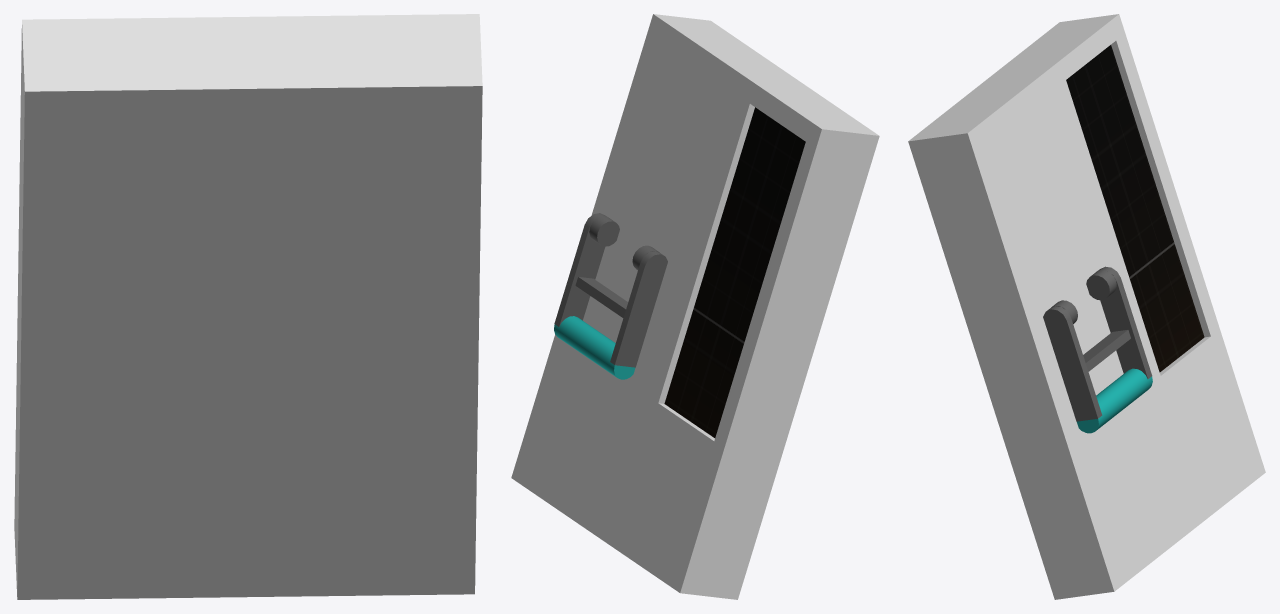
The model's file is SM_Heal.fbx.
3 renders of one model, left to right at view 1: azimuth 30°, elevation 25°; view 2: azimuth 150°, elevation 25°; view 3: azimuth 270°, elevation 25°, orthographic. The views are drawn at different scales.
Visible parts, largest first — view 1: Heal; view 2: Heal, HealLever, HealHandle1, HealPivot, HealLever2; view 3: Heal, HealLever, HealHandle1, HealPivot, HealLever2.
Boxes of the visible parts, bbox=[...] form: Heal: bbox=[14, 14, 482, 599]; Heal: bbox=[511, 14, 879, 599]; HealLever: bbox=[554, 213, 667, 367]; HealHandle1: bbox=[554, 316, 635, 379]; HealPivot: bbox=[589, 216, 659, 270]; HealLever2: bbox=[575, 277, 627, 317]; Heal: bbox=[908, 14, 1265, 599]; HealLever: bbox=[1043, 266, 1152, 421]; HealHandle1: bbox=[1077, 368, 1152, 433]; HealPivot: bbox=[1051, 270, 1116, 323]; HealLever2: bbox=[1083, 330, 1130, 371].
Bounding box in the file's own units: 0.786 × 0.9885 × 0.7166.
2 materials, 2 textured.
